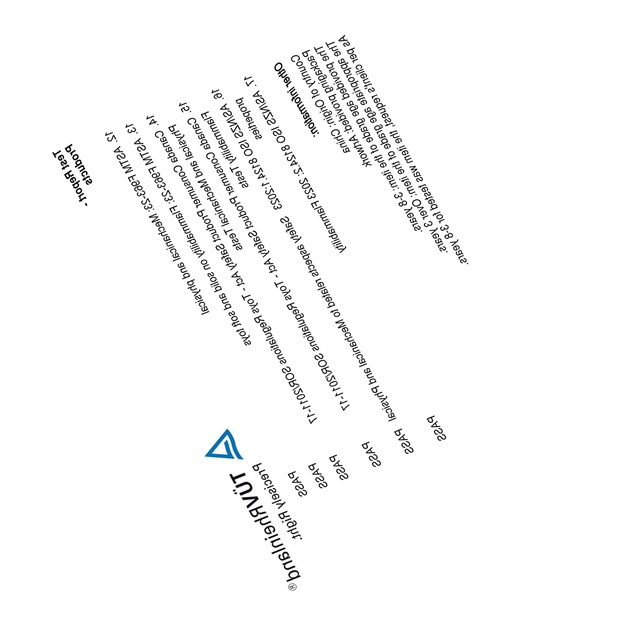tuv_rheinland: (204, 427, 304, 599)
